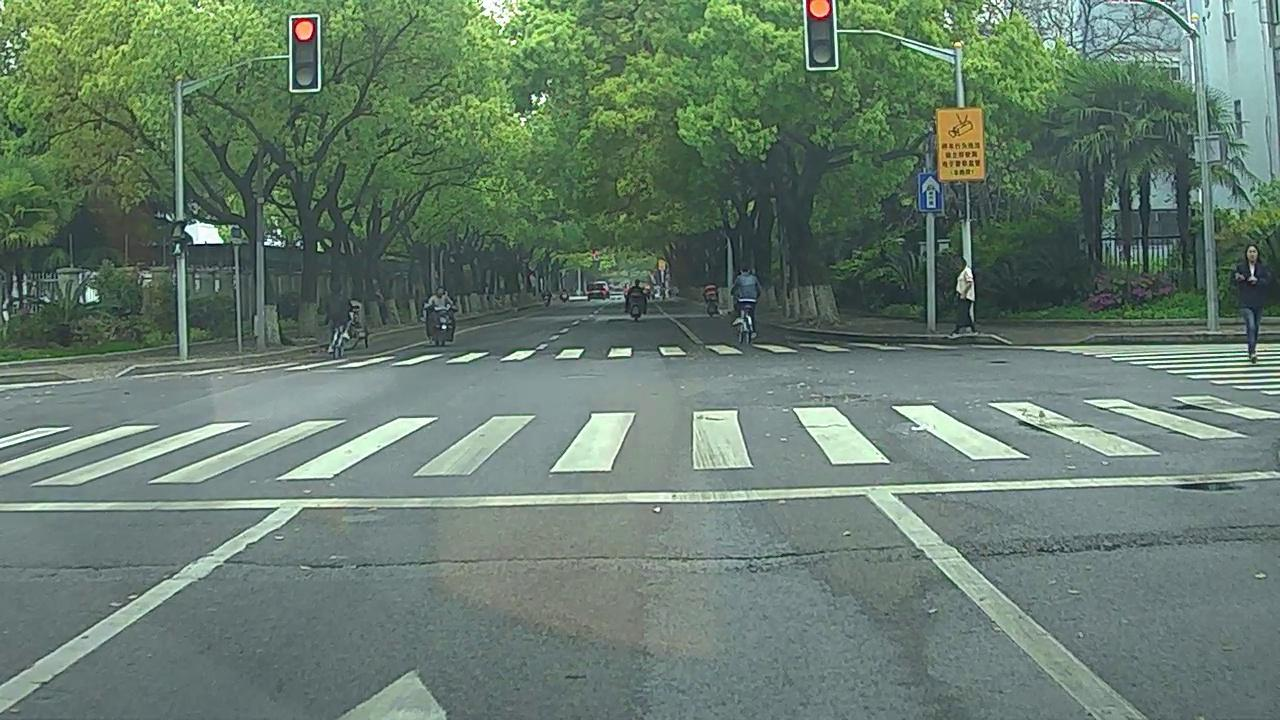traffic_light: (293, 17, 317, 91), (807, 1, 834, 66)
